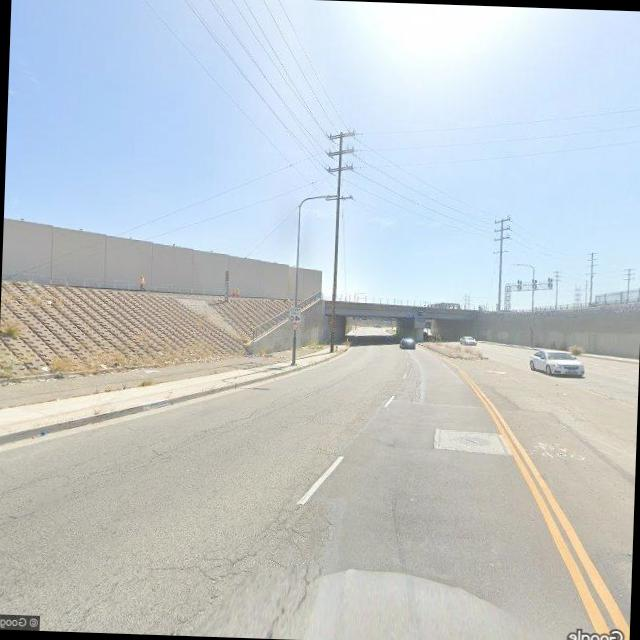crack: (170, 500, 335, 638)
